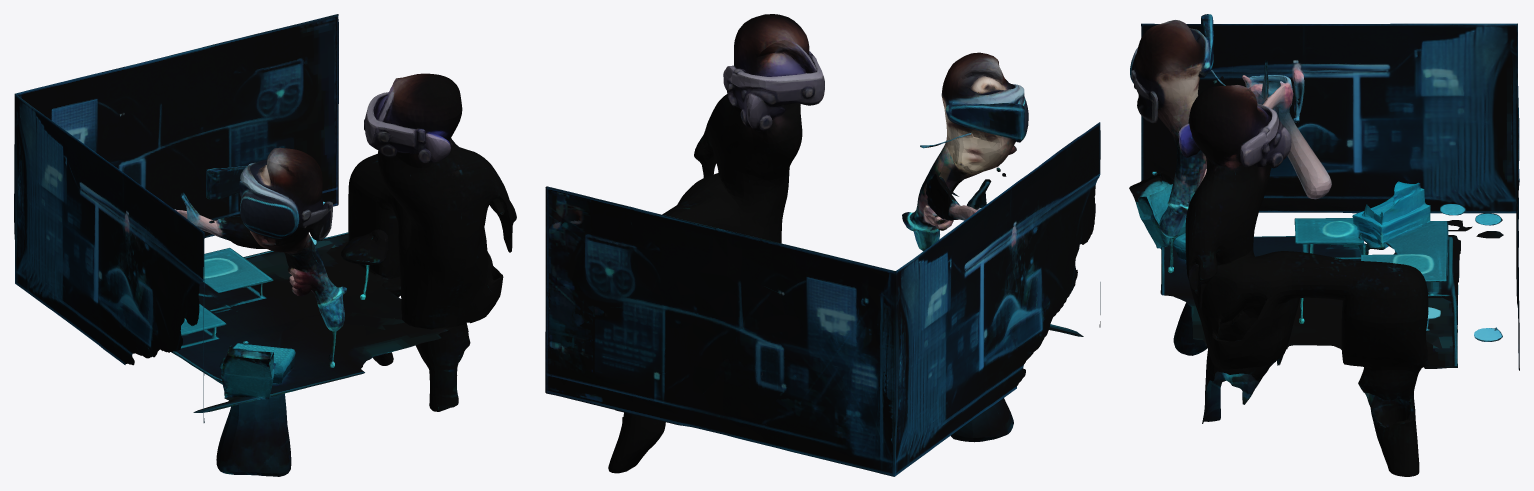
File: sample (35).glb
3 renders of one model, left to right at view 1: azimuth 30°, elevation 25°; view 2: azimuth 150°, elevation 25°; view 3: azimuth 270°, elevation 25°, orthographic. The views are drawn at different scales.
Visible parts, largest first — view 1: world; view 2: world; view 3: world.
Part boxes in pixels (x1,y1,x2,y2): world: [14, 14, 516, 476]; world: [545, 14, 1100, 476]; world: [1129, 14, 1519, 476].
Bounding box in the file's own units: 0.9934 × 0.9995 × 0.9825.
1 material, 1 textured.
